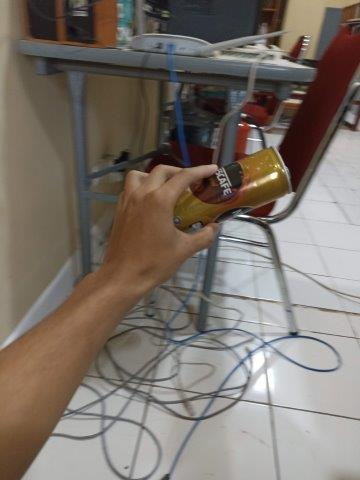kaleng: (172, 145, 292, 233)
